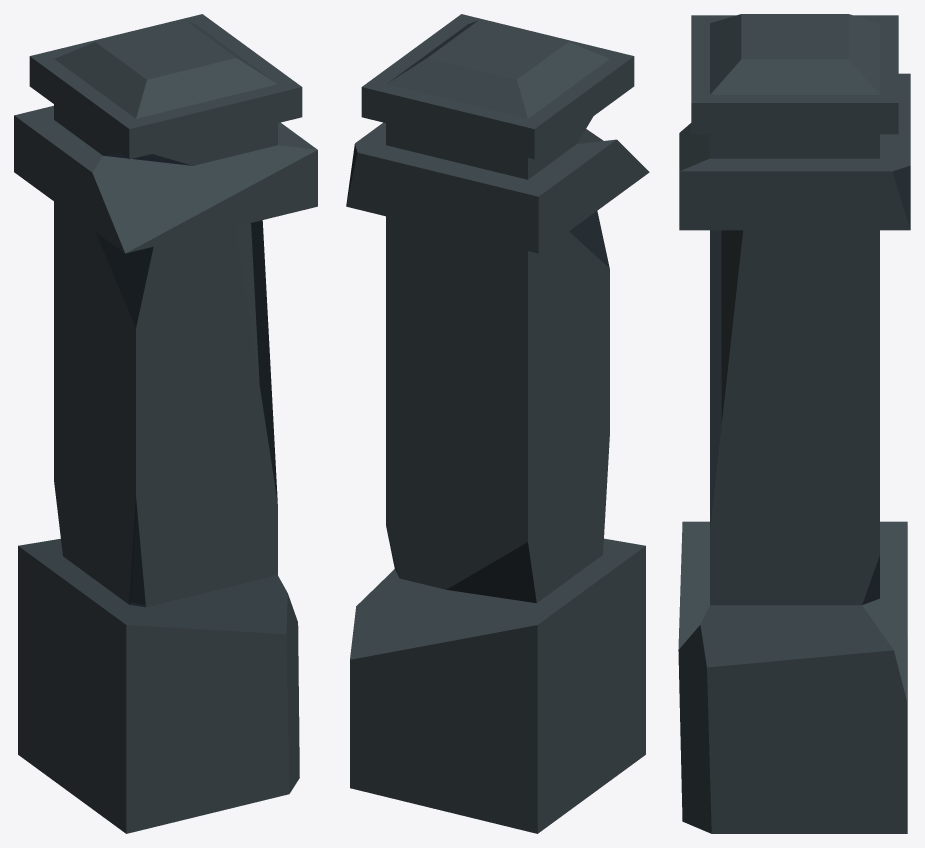
The model's file is Pilar UTuh.fbx.
The picture shows the model from 3 angles, left to right: view 1: azimuth 30°, elevation 25°; view 2: azimuth 150°, elevation 25°; view 3: azimuth 270°, elevation 25°; orthographic projection. The views are drawn at different scales.
Visible parts, largest first — view 1: Cube.011; view 2: Cube.011; view 3: Cube.011.
Boxes of the visible parts, <box> form: Cube.011: <box>14,14,317,833</box>; Cube.011: <box>346,14,649,833</box>; Cube.011: <box>678,14,910,833</box>.
Bounding box in the file's own units: 2.72 × 9.72 × 2.73.
